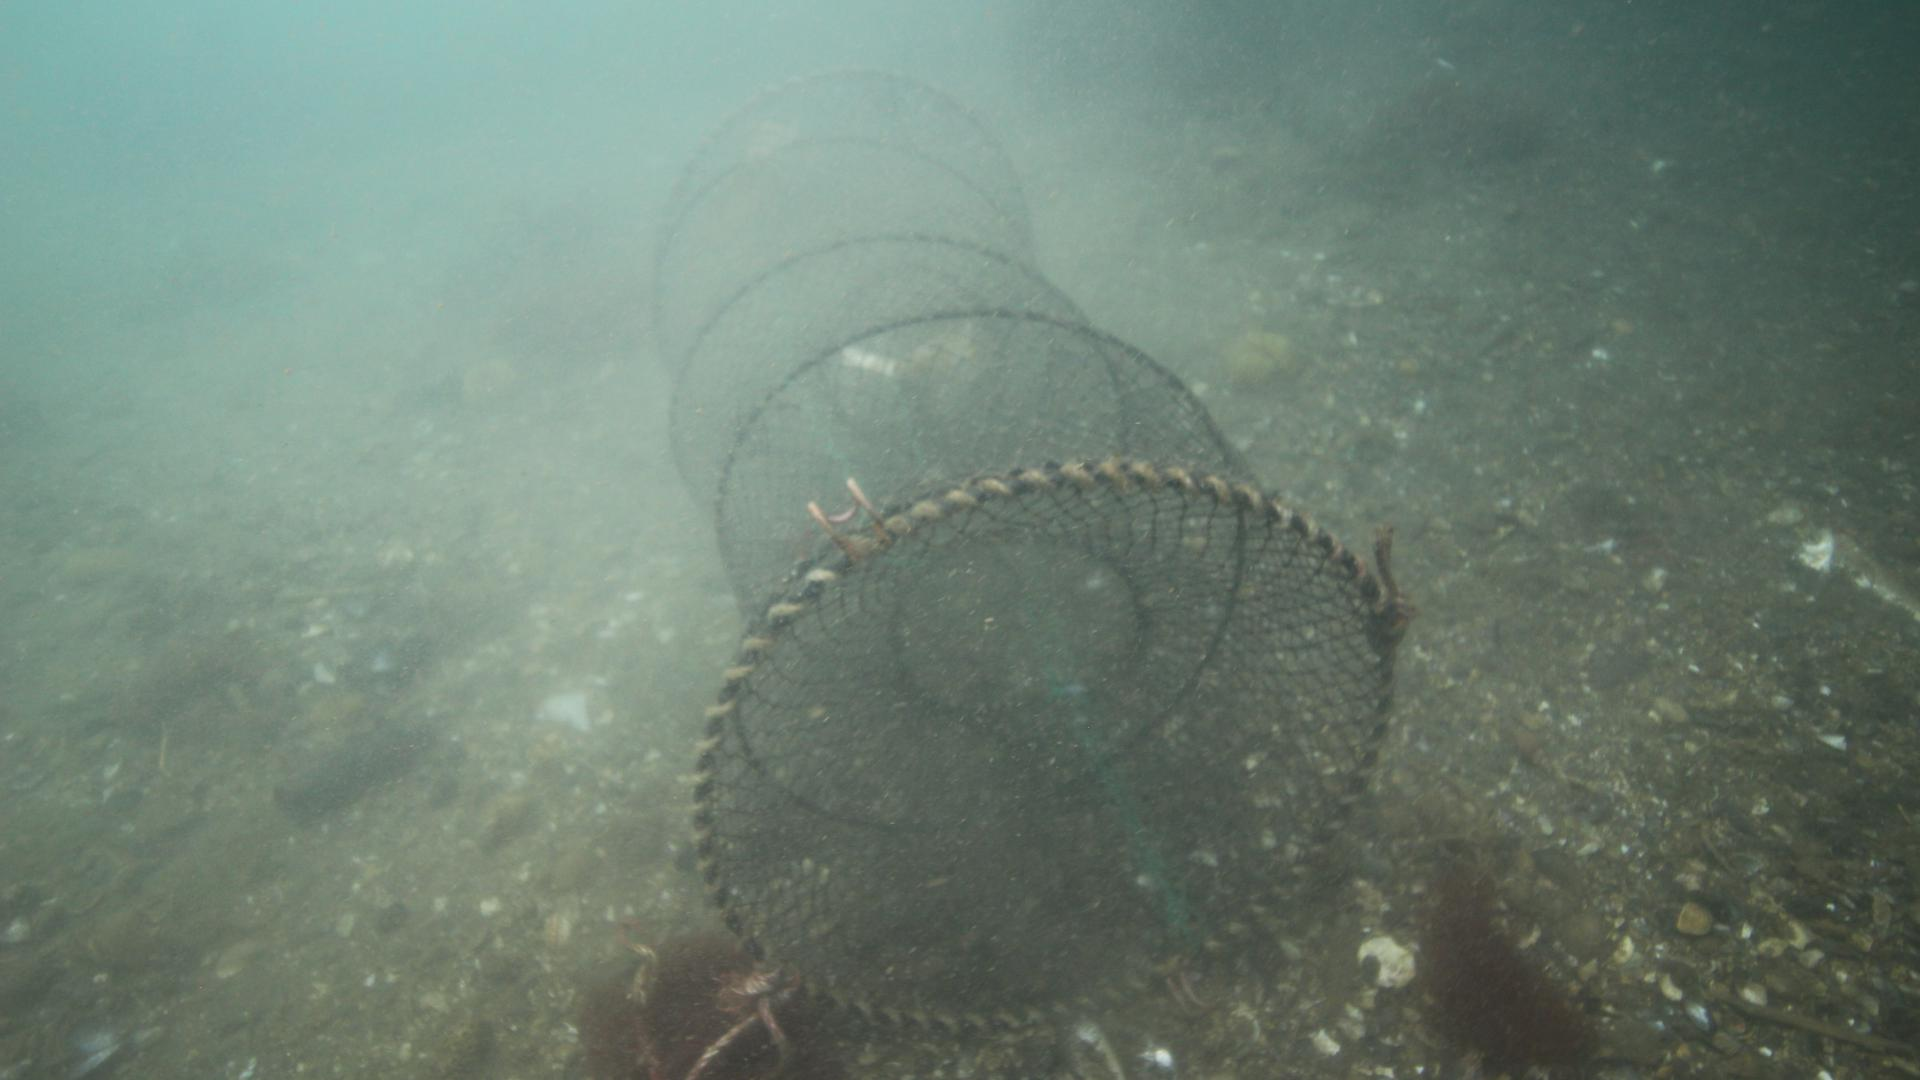spring fish trap: (644, 69, 1396, 1043)
